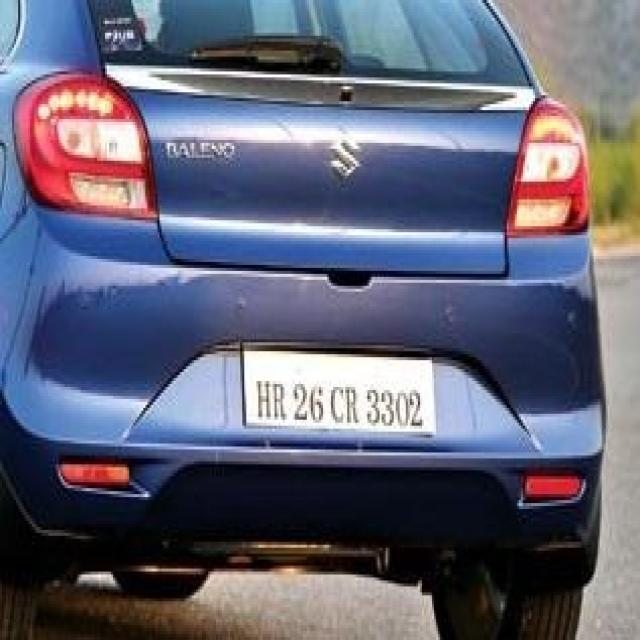number_plate: (242, 354, 432, 435)
